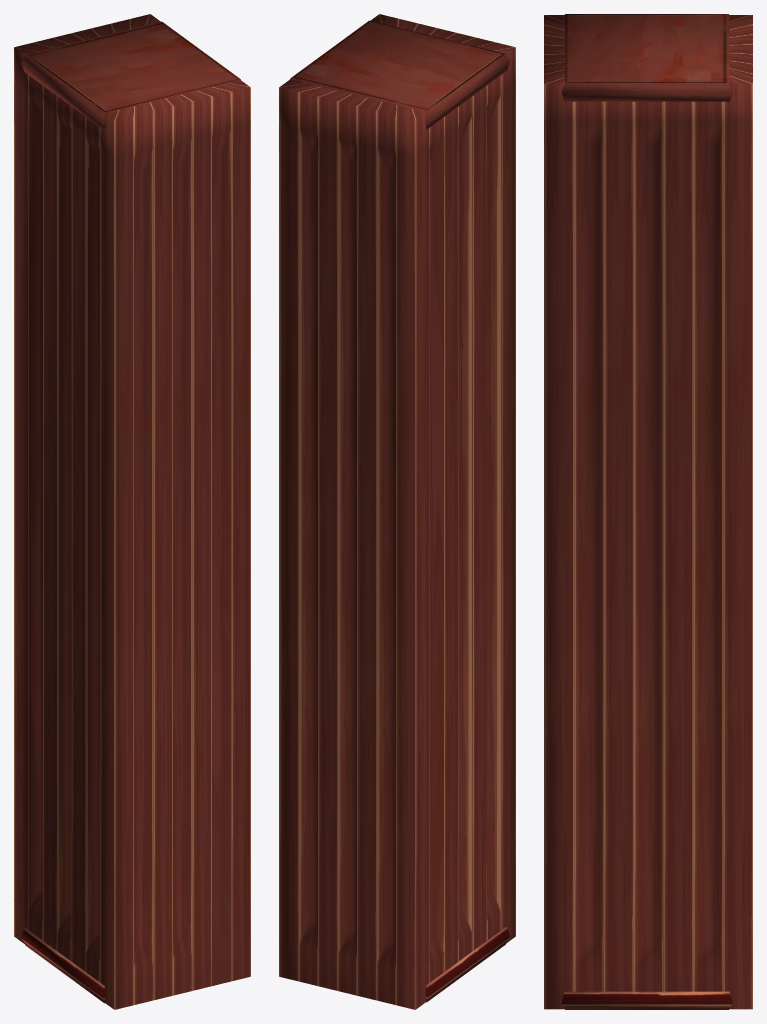
Rendered from MKL_Pillars.fbx.
3 renders of one model, left to right at view 1: azimuth 30°, elevation 25°; view 2: azimuth 150°, elevation 25°; view 3: azimuth 270°, elevation 25°, orthographic. The views are drawn at different scales.
Parts seen in each view (by area): view 1: MKL_PillarWall, MKL_PillarSpiral, MKL_PillarSpiralVariation; view 2: MKL_PillarWall, MKL_PillarSpiral, MKL_PillarSpiralVariation; view 3: MKL_PillarWall, MKL_PillarSpiral, MKL_PillarSpiralVariation.
Part boxes in pixels (box(x1,y1,x2,y2)): MKL_PillarWall: box(14, 14, 250, 1009); MKL_PillarSpiral: box(21, 21, 240, 996); MKL_PillarSpiralVariation: box(21, 63, 105, 1003); MKL_PillarWall: box(279, 14, 515, 1009); MKL_PillarSpiral: box(290, 20, 509, 995); MKL_PillarSpiralVariation: box(425, 62, 509, 1002); MKL_PillarWall: box(544, 15, 752, 1009); MKL_PillarSpiral: box(562, 14, 732, 1002); MKL_PillarSpiralVariation: box(562, 93, 732, 1009).
Size of the model in its own units: 0.5 by 3.01 by 0.6137.
